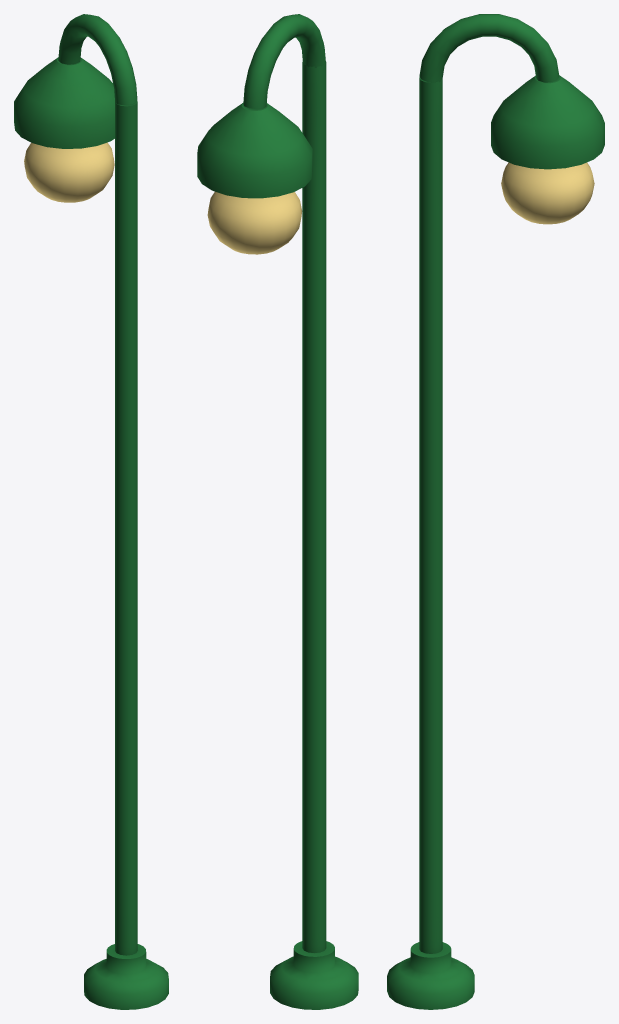
File: street-lamp.fbx
3 views of the same model, side by side, from view 1: azimuth 30°, elevation 25°; view 2: azimuth 150°, elevation 25°; view 3: azimuth 270°, elevation 25° (orthographic). The views are drawn at different scales.
Parts seen in each view (by area): view 1: street-lamp; view 2: street-lamp; view 3: street-lamp.
Part boxes in pixels (box(x1,y1,x2,y2)): street-lamp: box(14, 14, 168, 1009); street-lamp: box(197, 14, 358, 1009); street-lamp: box(387, 14, 604, 1009).
Size of the model in its own units: 390 by 3688 by 745.
1 material, 1 textured.
